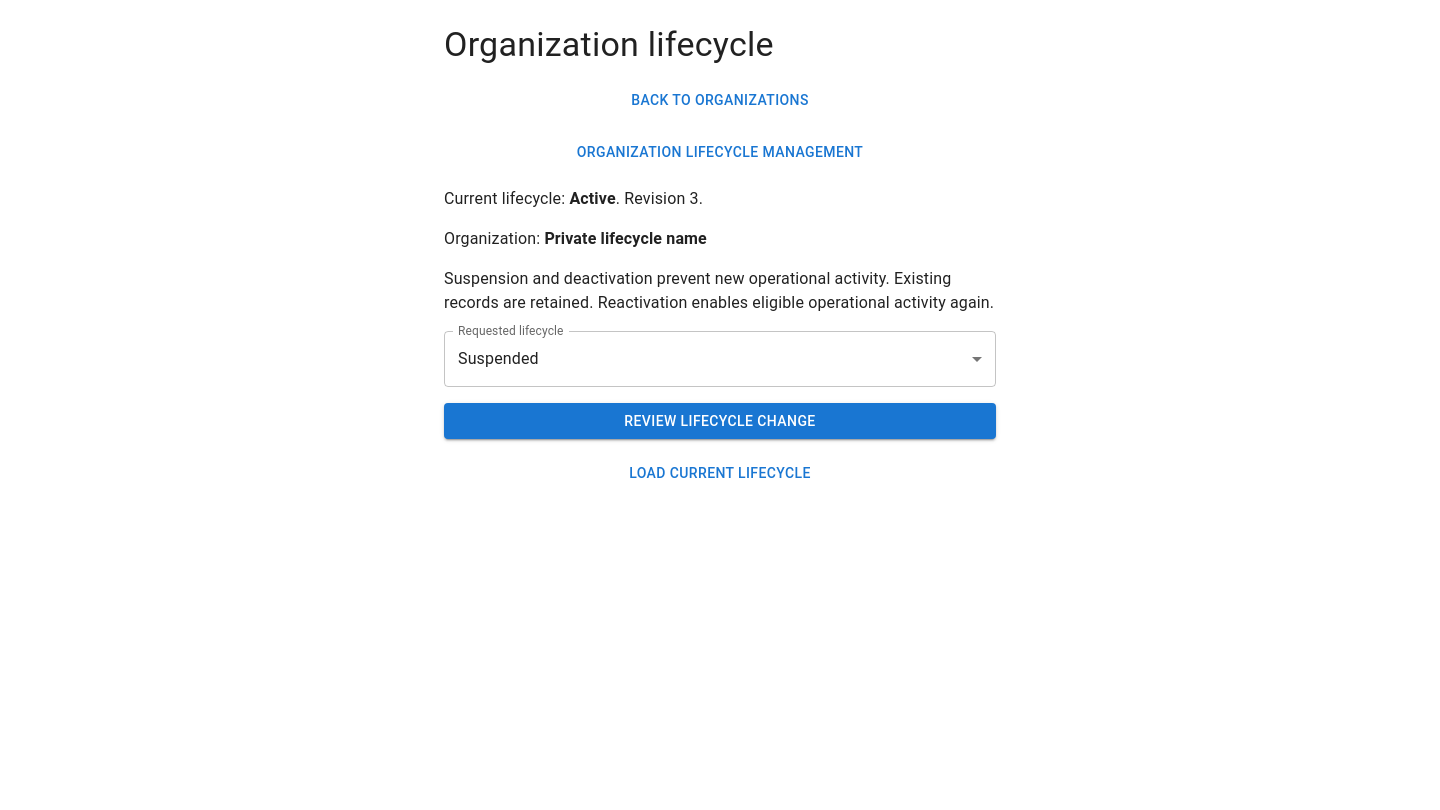
records a valid original acknowledgment independently of failed later reconciliation
Step 1. Click the button "Review lifecycle change" → x=720, y=421, box top-left (444, 403), bottom-right (996, 440)
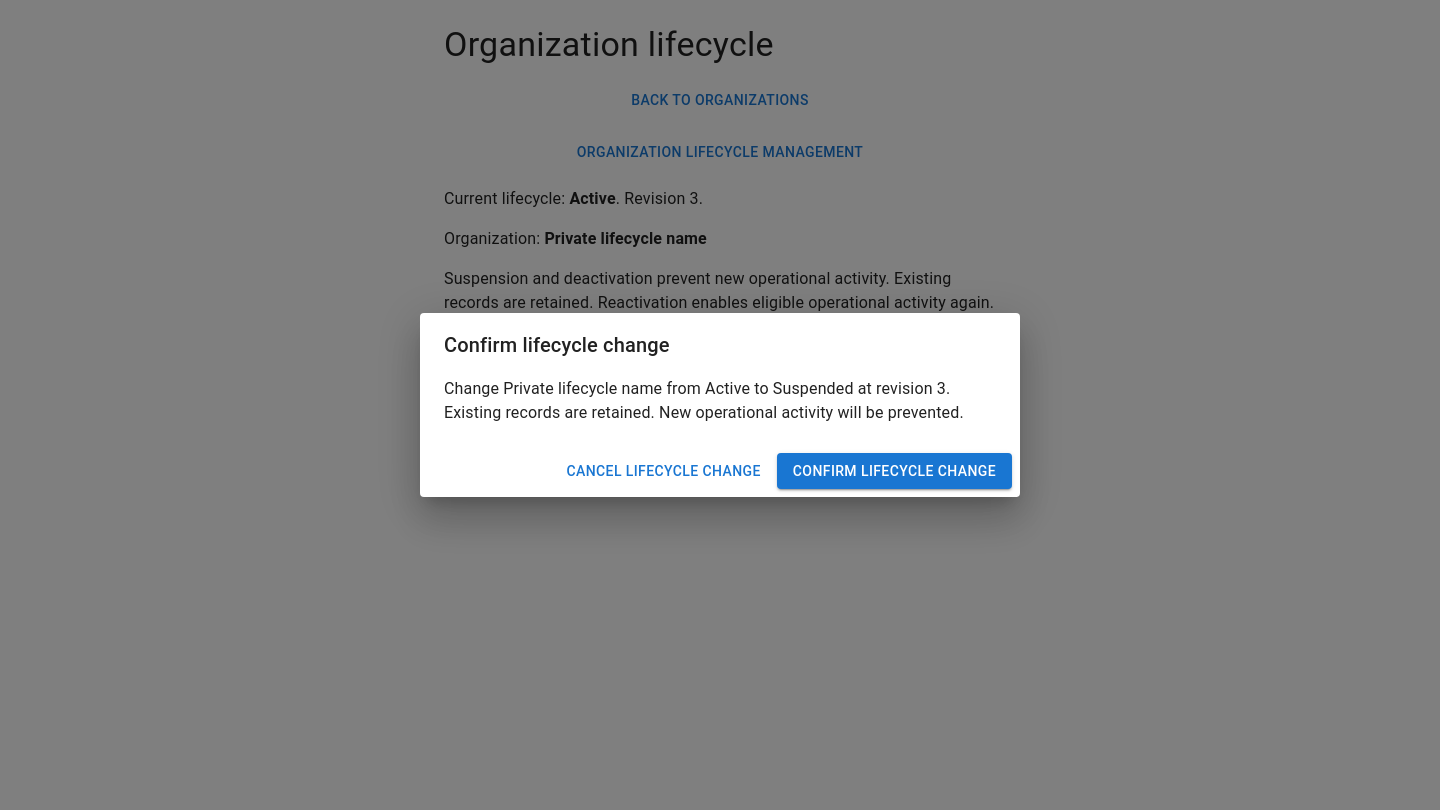
Step 2. Click the button "Confirm lifecycle change" → x=894, y=471, box top-left (777, 453), bottom-right (1012, 489)
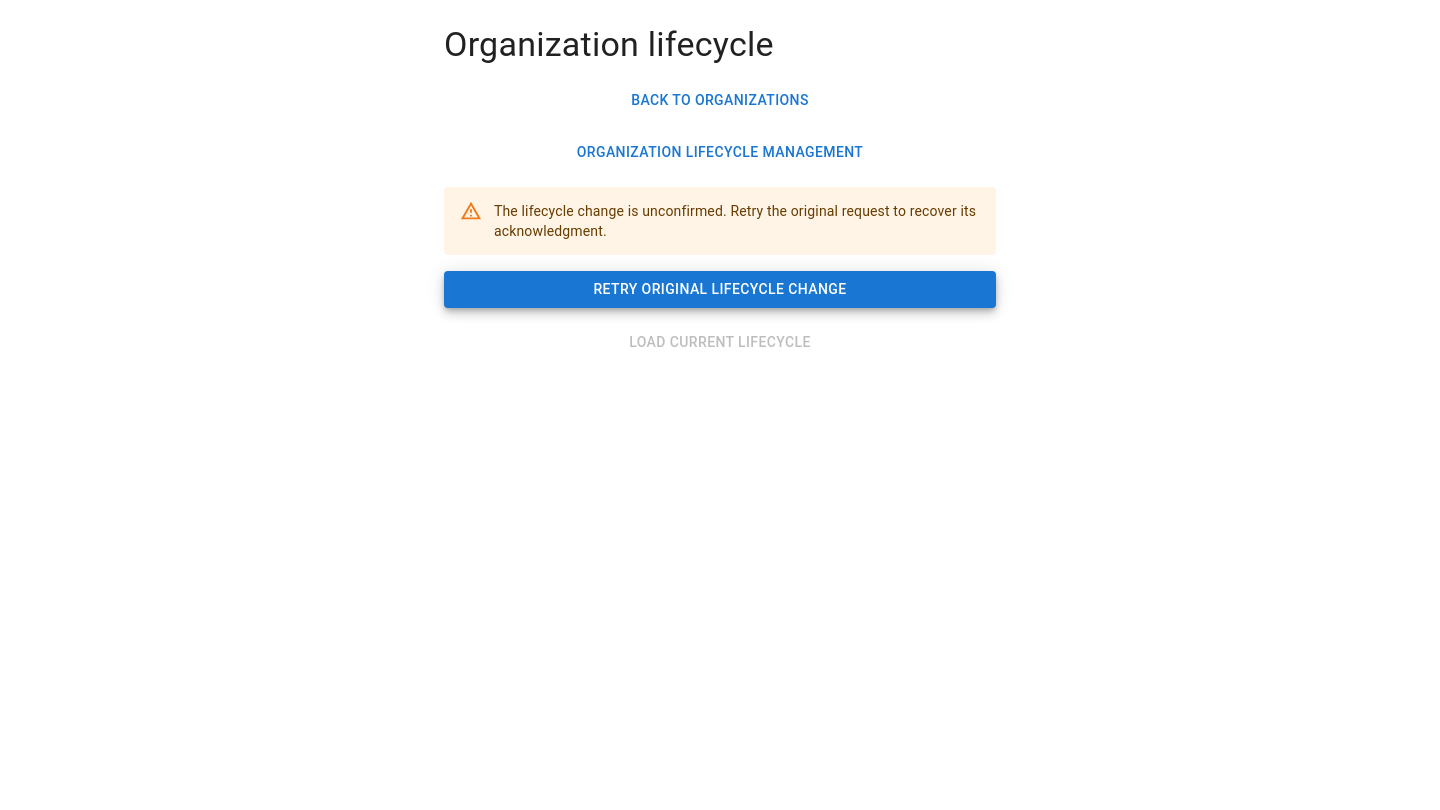
Expected: the text "lifecycle change is unconfirmed" is shown, top-left (494, 203), bottom-right (976, 239)
